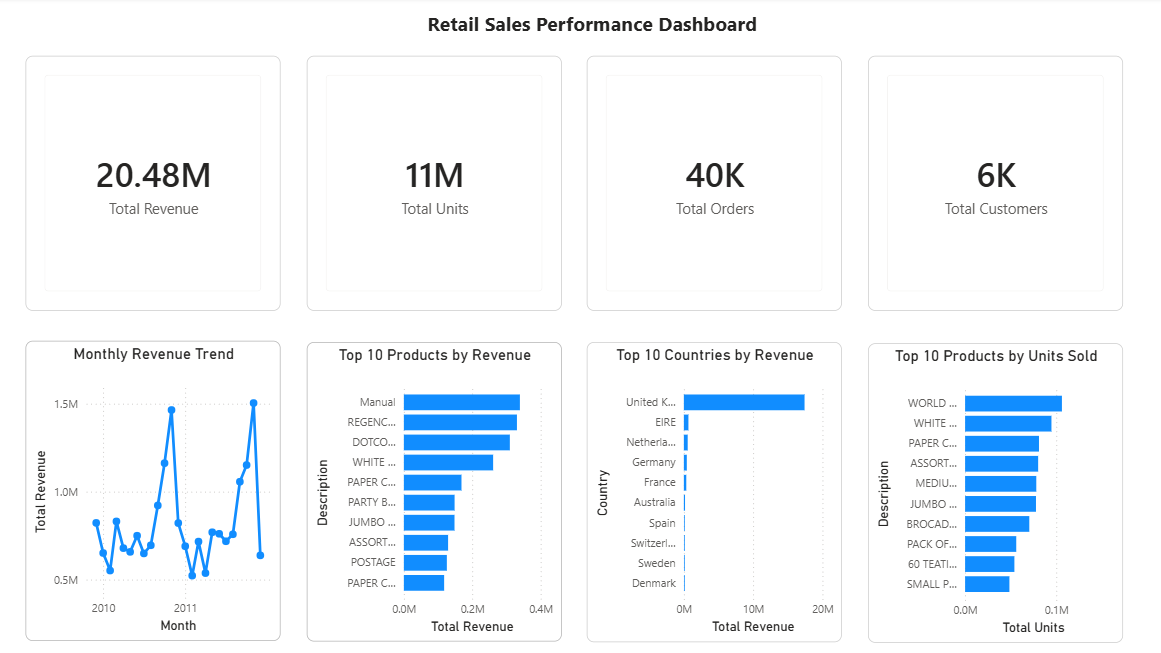

What the dashboard file says about the page in this screenshot:
{"tool":"powerbi","page":{"name":"Page 1","canvas":[1280,720],"ordinal":0},"visuals":[{"type":"cardVisual","fields":{"Data":["retail_sales_analysis clean_sales_base.Total Revenue"]},"box":[30.2,65,280,280],"z":0},{"type":"cardVisual","fields":{"Data":["retail_sales_analysis clean_sales_base.Total Units"]},"box":[338.5,65,280,280],"z":1000},{"type":"cardVisual","fields":{"Data":["retail_sales_analysis clean_sales_base.Total Orders"]},"box":[646.8,65,280,280],"z":2000},{"type":"cardVisual","fields":{"Data":["retail_sales_analysis clean_sales_base.Total Customers"]},"box":[955.1,65,280,280],"z":3000},{"type":"lineChart","title":"Monthly Revenue Trend","fields":{"Category":["retail_sales_analysis clean_sales_base.MonthStart"],"Y":["retail_sales_analysis clean_sales_base.Total Revenue"]},"box":[30.2,377.4,280,329.3],"z":4000},{"type":"clusteredBarChart","title":"Top 10 Products by Revenue","fields":{"Category":["retail_sales_analysis clean_sales_base.Description"],"Y":["retail_sales_analysis clean_sales_base.Total Revenue"]},"box":[338.9,378.7,280,329],"z":5000},{"type":"clusteredBarChart","title":"Top 10 Products by Units Sold ","fields":{"Category":["retail_sales_analysis clean_sales_base.Description"],"Y":["retail_sales_analysis clean_sales_base.Total Units"]},"box":[955.1,380.1,280,329],"z":6000},{"type":"clusteredBarChart","title":"Top 10 Countries by Revenue","fields":{"Category":["retail_sales_analysis clean_sales_base.Country"],"Y":["retail_sales_analysis clean_sales_base.Total Revenue"]},"box":[646.3,378.7,280,329.3],"z":7000},{"type":"textbox","box":[209.9,9,885.1,53.5],"z":9000}]}

Visuals, with their boxes in screenshot pixels (x1, y1, x2, y2), scaled from the page's 1280x720 canvas onto the 1161x653 screenshot:
cardVisual - retail_sales_analysis clean_sales_base.Total Revenue: bbox=[27, 59, 281, 313]
cardVisual - retail_sales_analysis clean_sales_base.Total Units: bbox=[307, 59, 561, 313]
cardVisual - retail_sales_analysis clean_sales_base.Total Orders: bbox=[587, 59, 841, 313]
cardVisual - retail_sales_analysis clean_sales_base.Total Customers: bbox=[866, 59, 1120, 313]
"Monthly Revenue Trend" lineChart: bbox=[27, 342, 281, 641]
"Top 10 Products by Revenue" clusteredBarChart: bbox=[307, 343, 561, 642]
"Top 10 Products by Units Sold " clusteredBarChart: bbox=[866, 345, 1120, 643]
"Top 10 Countries by Revenue" clusteredBarChart: bbox=[586, 343, 840, 642]
textbox: bbox=[190, 8, 993, 57]
